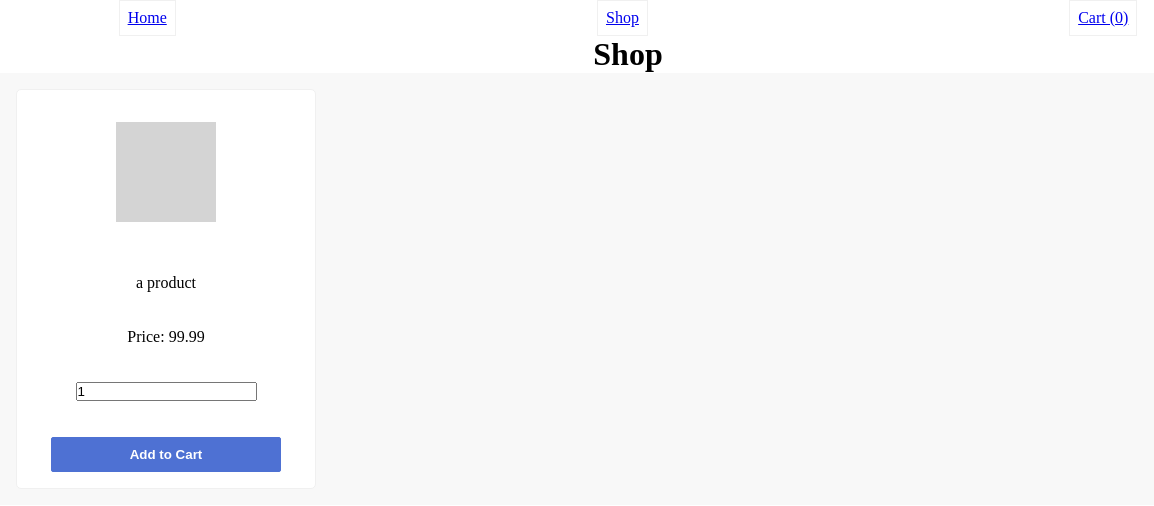
Test case: Product component › when a product is in the cart › when clicking the Remove from Cart button › subtract the removed product quantity from the cart navigation menu quantity and sets the quantity input to 1
Click the button "Add to Cart". click: coordinates (166, 454)
box: [51,437,281,472]
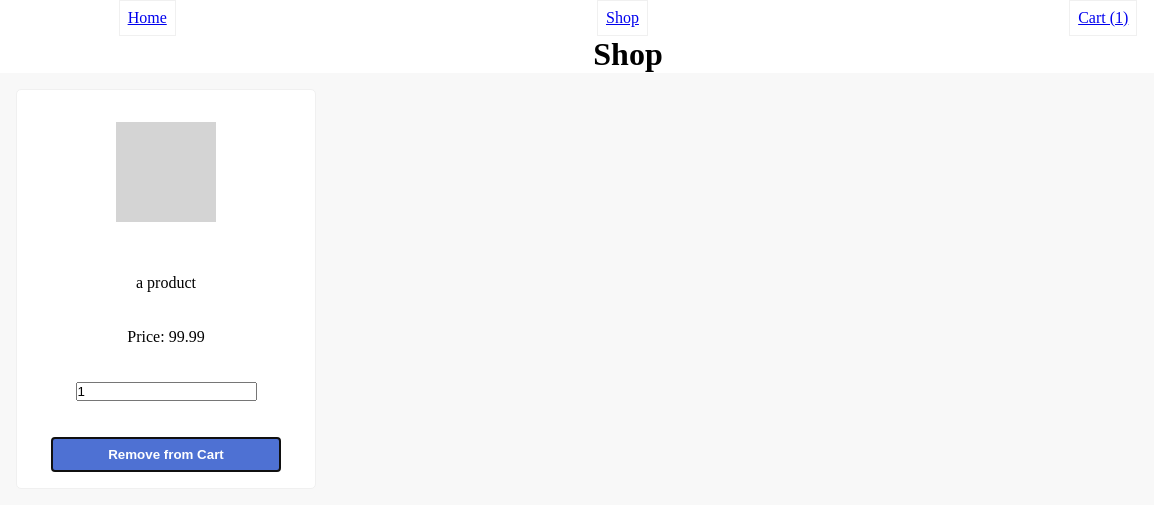
Expected: the link named "Cart (0)" reads "Cart (1)", [1069,0,1137,36]
Click the number field. click: coordinates (166, 392)
box: [76,382,256,401]
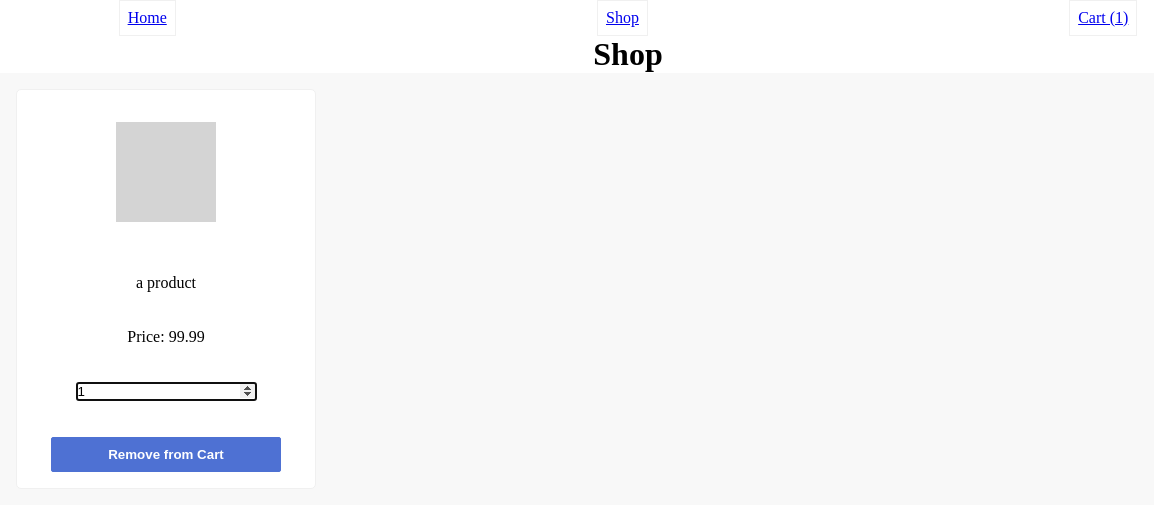
Type keys "{Control>}A{/Control}{3}"
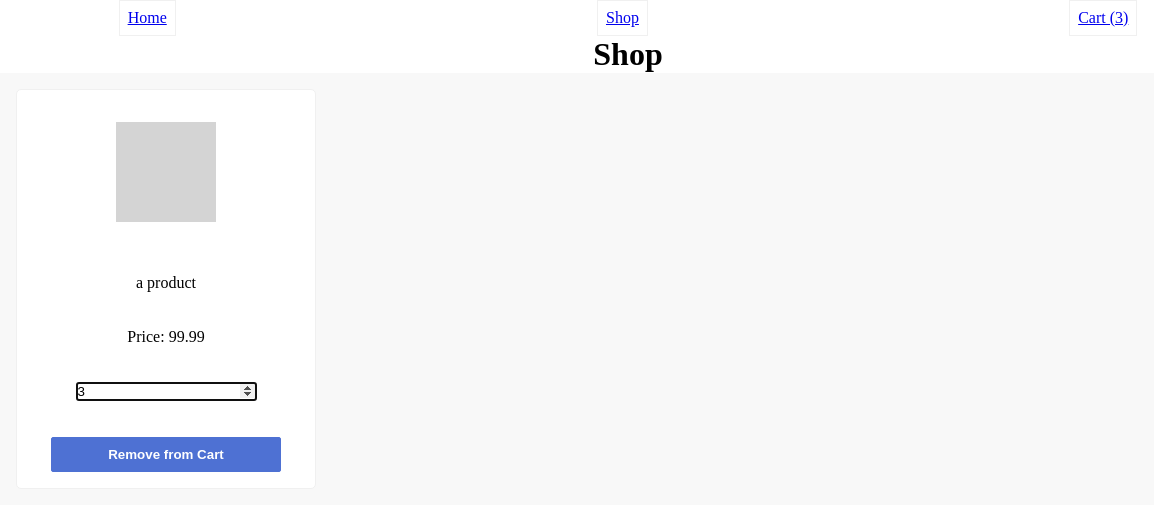
Expected: the number field holds "3", [76,382,256,401]
Expected: the link named "Cart (0)" reads "Cart (3)", [1069,0,1137,36]
Click the button named "Add to Cart". click: coordinates (166, 454)
box: [51,437,281,472]
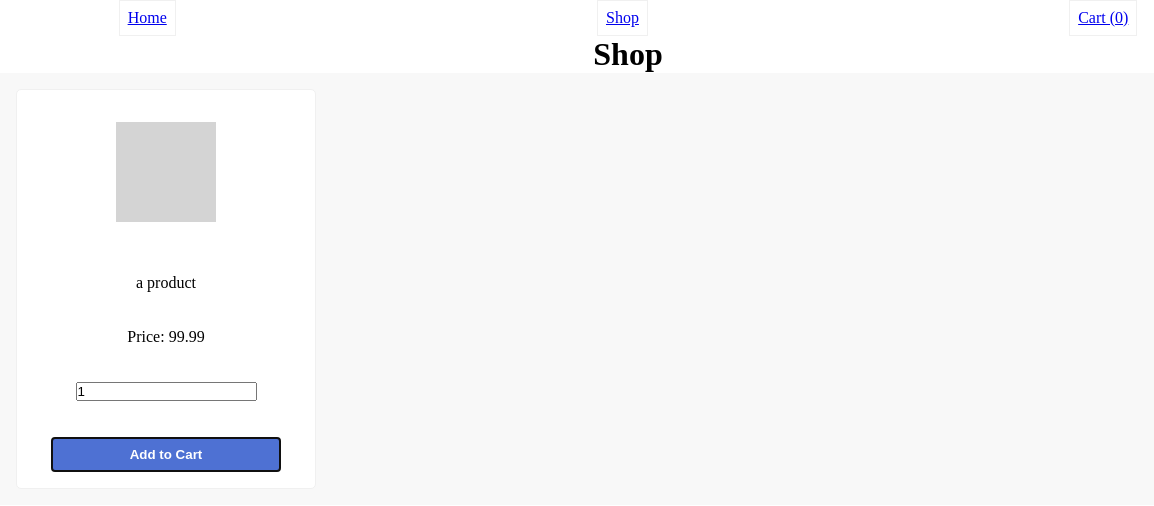
Expected: the number field holds "1", [76,382,256,401]
Expected: the link "Cart (0)" is shown, [1069,0,1137,36]
